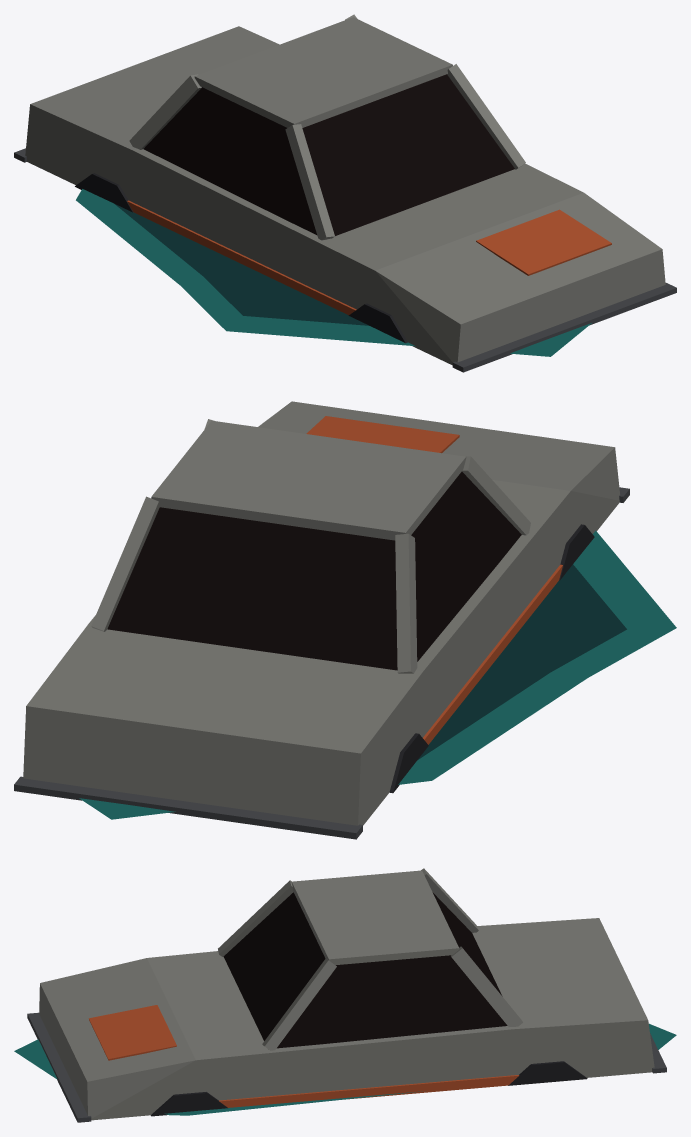
The model's file is drowned_car_sunk.glb.
3 renders of one model, top to bottom at view 1: azimuth 30°, elevation 25°; view 2: azimuth 150°, elevation 25°; view 3: azimuth 270°, elevation 25°, orthographic. The views are drawn at different scales.
Visible parts, largest first — view 1: drowned_car_sunk; view 2: drowned_car_sunk; view 3: drowned_car_sunk.
Part boxes in pixels (box(x1,y1,x2,y2)): drowned_car_sunk: box(14, 14, 676, 372); drowned_car_sunk: box(14, 401, 676, 839); drowned_car_sunk: box(14, 868, 676, 1122).
Bounding box in the file's own units: 2.75 × 1.01 × 4.7.
